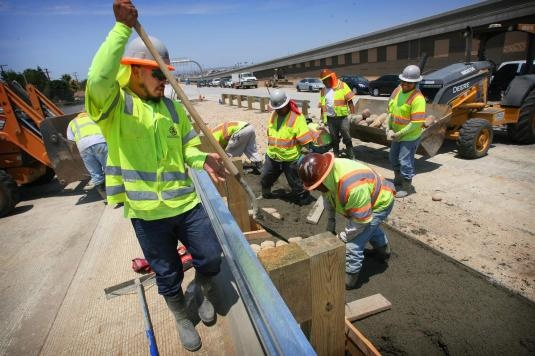red: (297, 152, 336, 192), (318, 65, 336, 87)
white: (122, 34, 173, 100), (397, 62, 422, 92), (267, 88, 291, 115)
